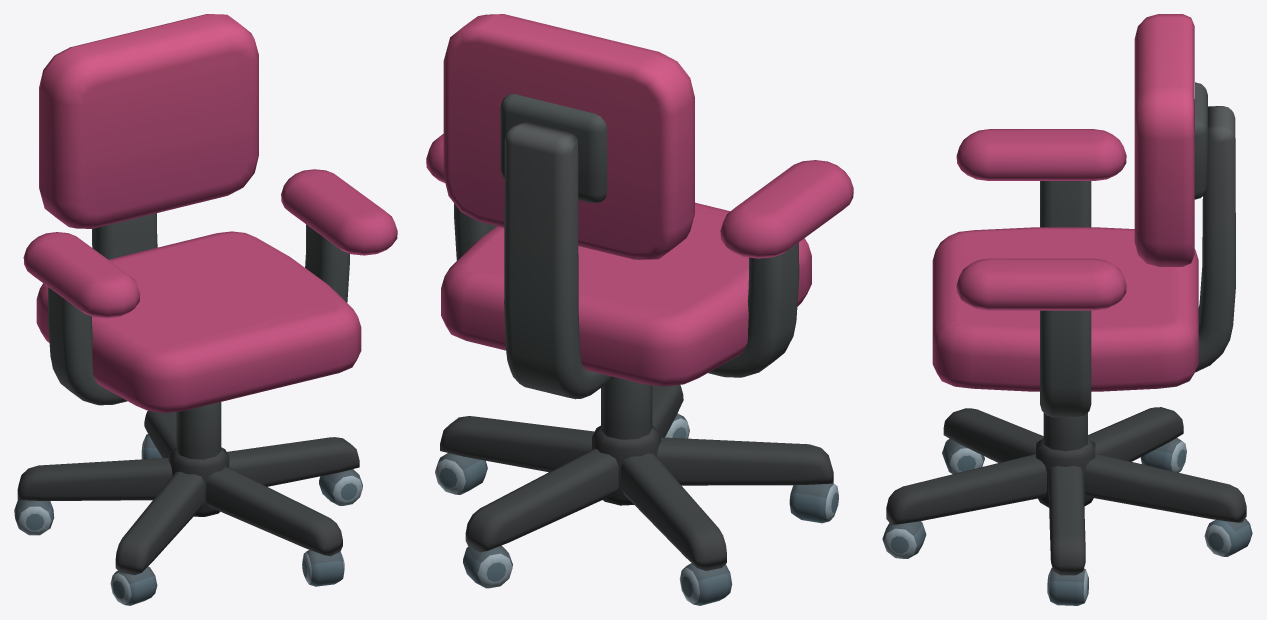
The model's file is cute-furniture-glb-chair-pc-04.glb.
The picture shows the model from 3 angles, left to right: view 1: azimuth 30°, elevation 25°; view 2: azimuth 150°, elevation 25°; view 3: azimuth 270°, elevation 25°; orthographic projection. The views are drawn at different scales.
Parts seen in each view (by area): view 1: Chair_PC_04; view 2: Chair_PC_04; view 3: Chair_PC_04.
Boxes of the visible parts, x1,y1,x2,y2 form: Chair_PC_04: (14,14,397,605); Chair_PC_04: (426,14,853,605); Chair_PC_04: (882,14,1252,605).
Size of the model in its own units: 0.7498 by 1.05 by 0.7323.
Materials: 1 (1 with a texture image).
